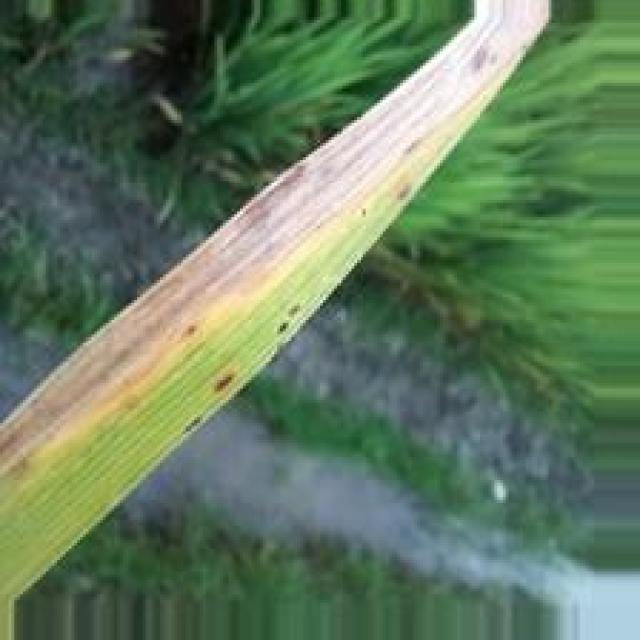Leaf_Scald: (0, 14, 546, 476)
